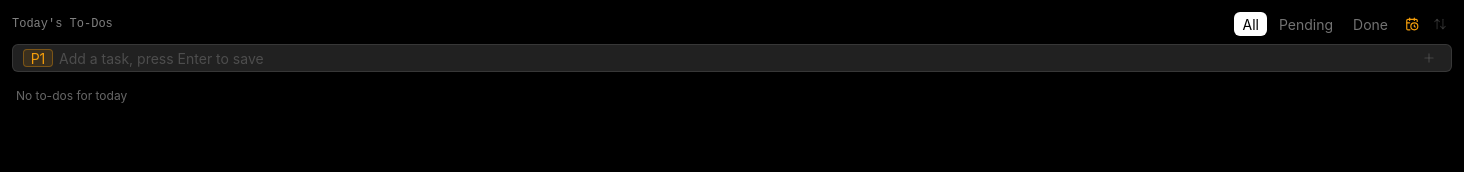
it: HeaderSchedulePanel › 昨日有未完成待办时显示顺延按钮，悬停展示数量
This screenshot has width=1464, height=172.
Hover over the button named "Move to Today".
mouse_move(1412, 24)  # box x1=1400 y1=12 x2=1424 y2=36
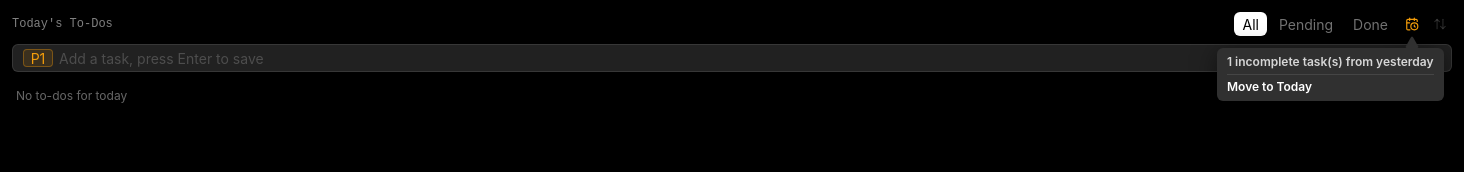
Check: the text "1 incomplete task(s) from yesterday" is shown, box x1=1227 y1=54 x2=1434 y2=75
Check: the text "Move to Today" is shown, box x1=1227 y1=79 x2=1312 y2=94
